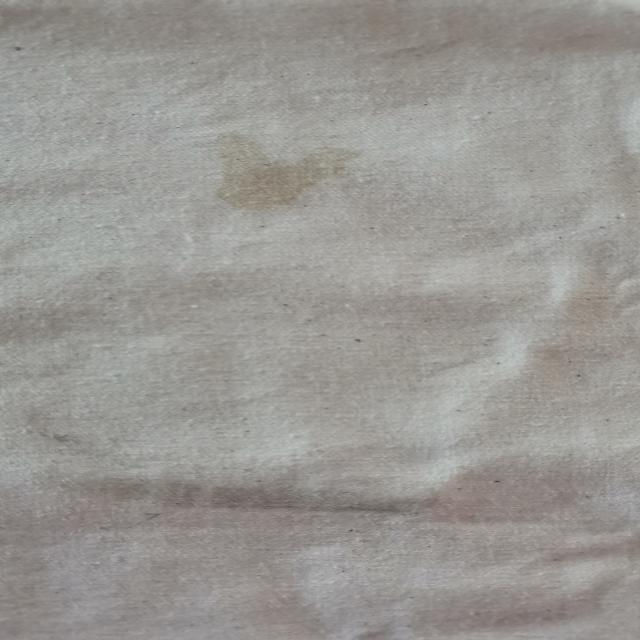taaaches: (48, 464, 472, 525), (178, 122, 372, 219), (14, 403, 120, 451)
